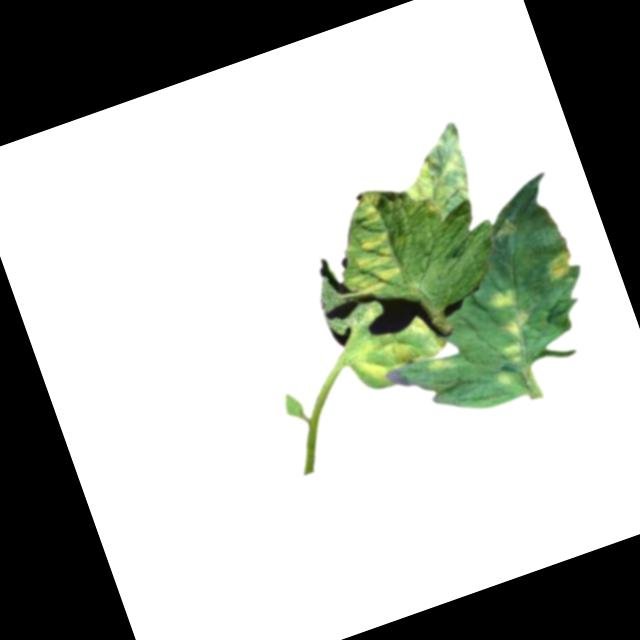Leaf_Mold: (314, 189, 408, 302), (341, 309, 454, 402), (384, 118, 481, 225), (472, 283, 548, 391), (538, 245, 577, 284)
